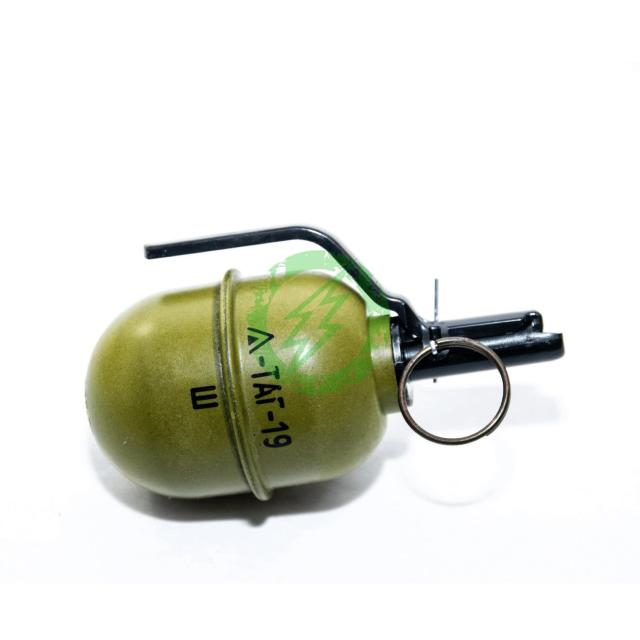grenade: (87, 224, 565, 500)
